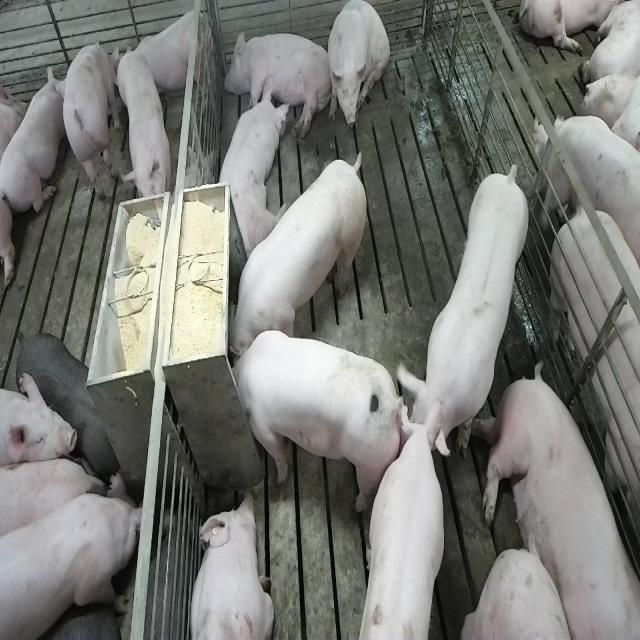Feeding: (220, 330, 396, 514), (230, 143, 372, 359)
Lateral_lying: (225, 28, 332, 141)
Sitting: (326, 1, 390, 134)
Standing: (546, 199, 640, 640), (394, 154, 530, 458), (2, 486, 142, 640), (358, 416, 452, 640), (534, 108, 640, 258), (16, 330, 115, 458), (0, 450, 111, 547), (116, 47, 173, 223), (60, 35, 118, 204)
Sternal_lying: (186, 490, 274, 640), (212, 88, 287, 260), (2, 64, 64, 215), (124, 5, 214, 100)
